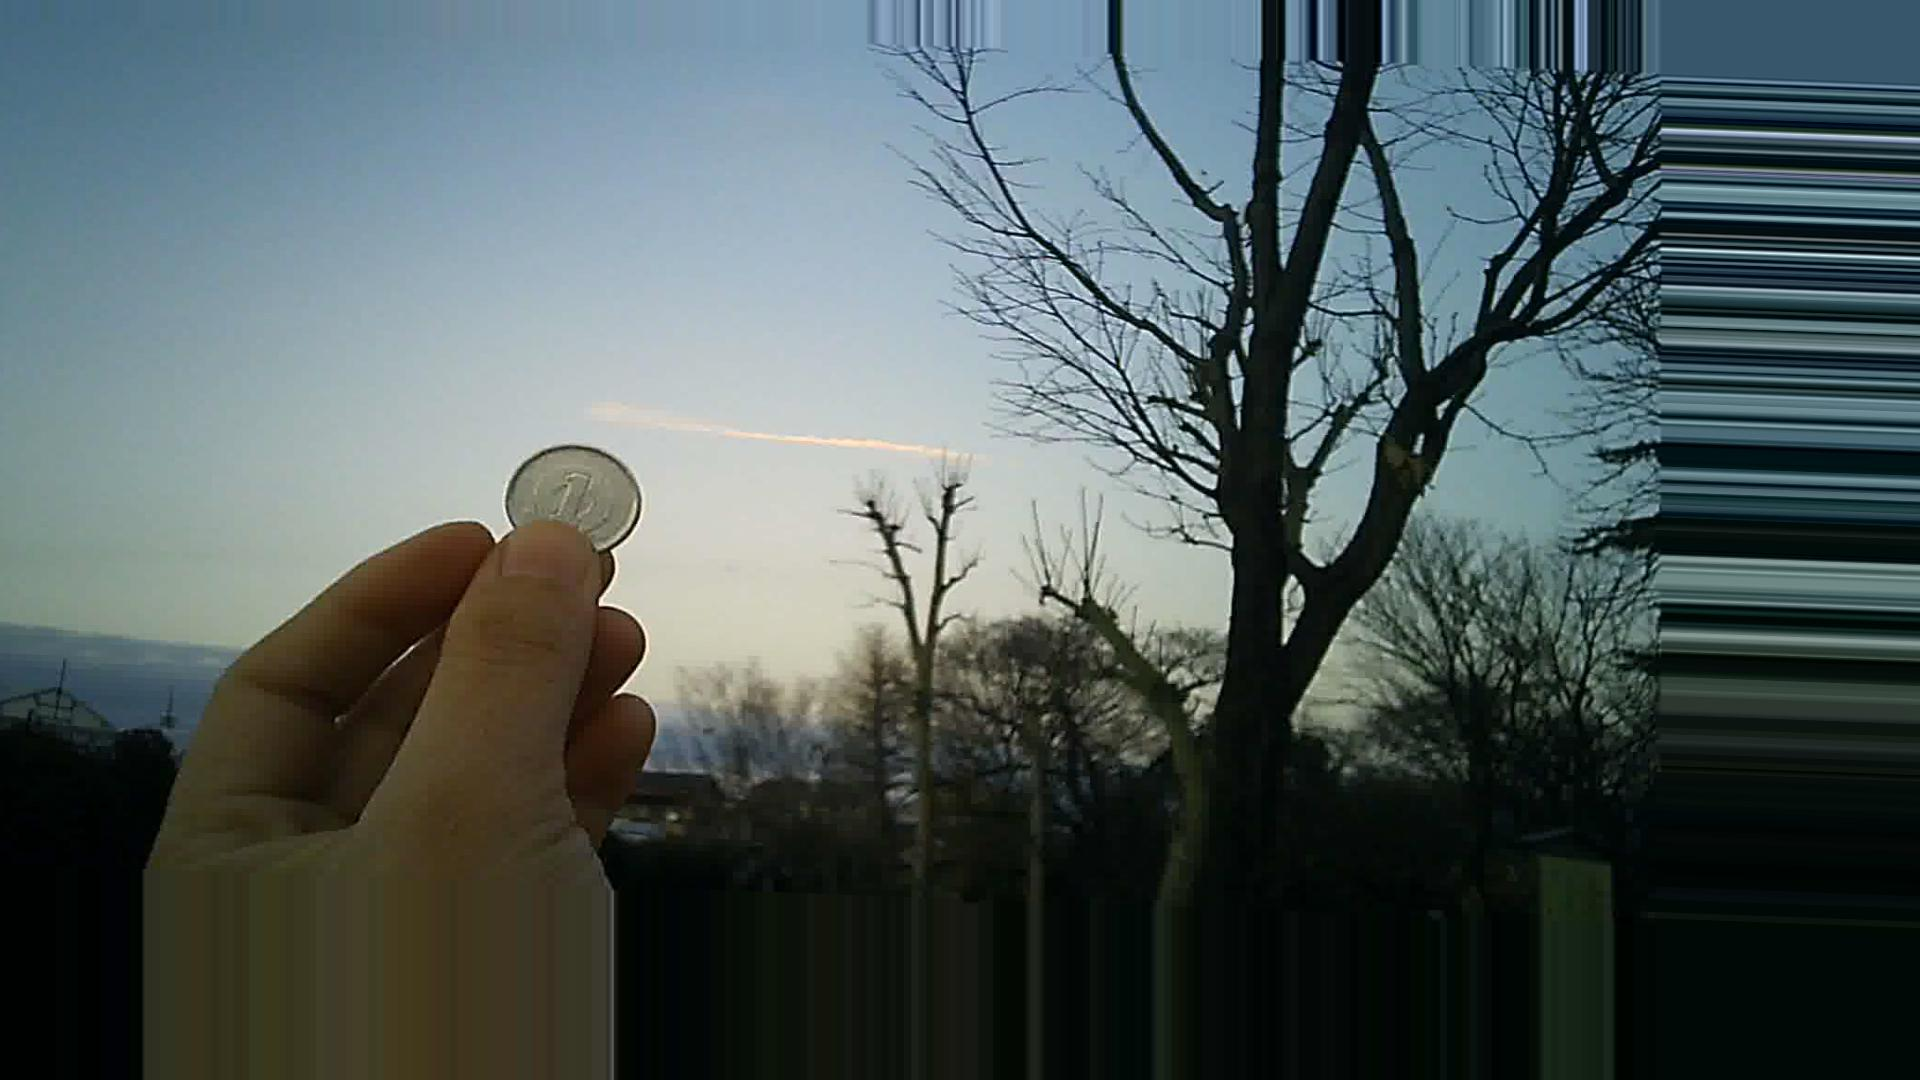1 Yen: (502, 442, 657, 574)
